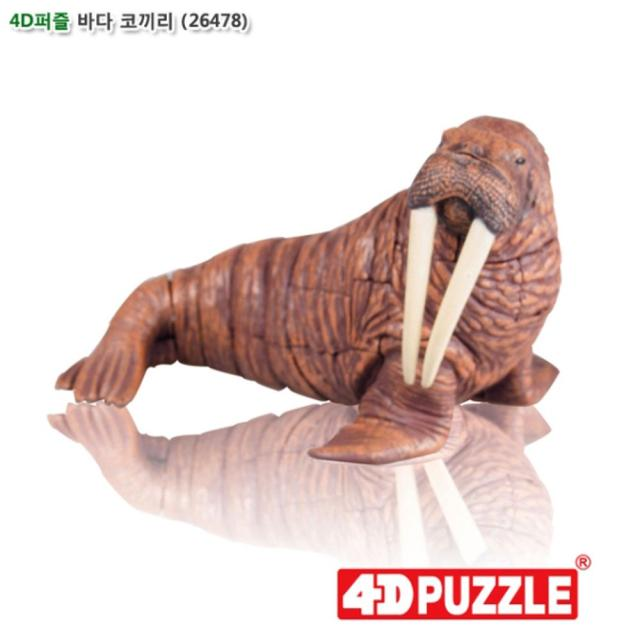walrus: (70, 65, 574, 472)
